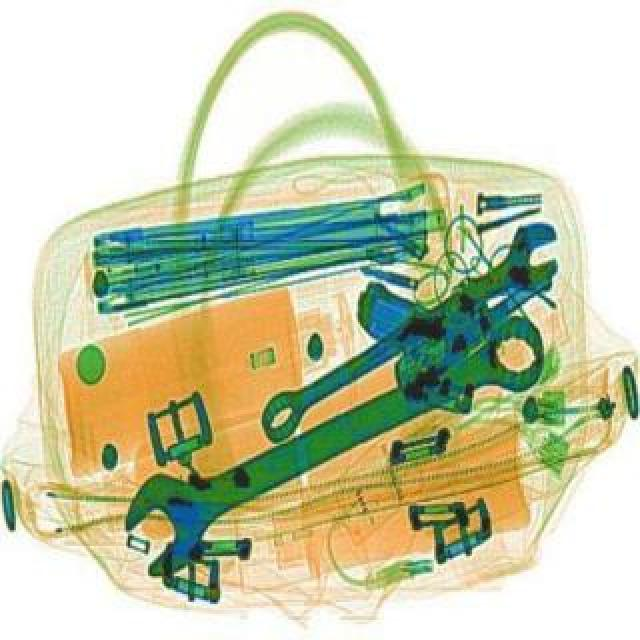gun: (342, 192, 564, 388)
scissors: (104, 298, 568, 580), (242, 212, 578, 450)
